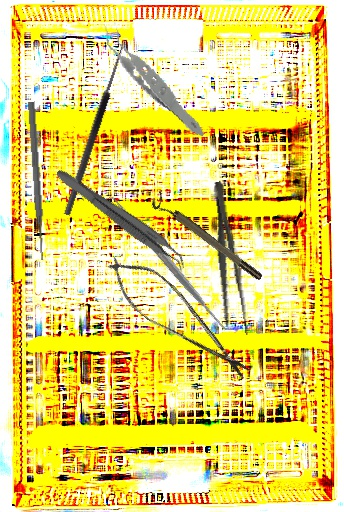Dressing Forceps: (204, 179, 252, 339)
Fixation Ring: (148, 191, 265, 287)
Hook Surgical: (54, 39, 128, 217)
Micro Scissor: (96, 244, 262, 391)
Pusher: (25, 101, 48, 261)
Spatula Surgical: (104, 188, 236, 340)
Tissue Forceps: (49, 166, 193, 273), (102, 7, 205, 151)
